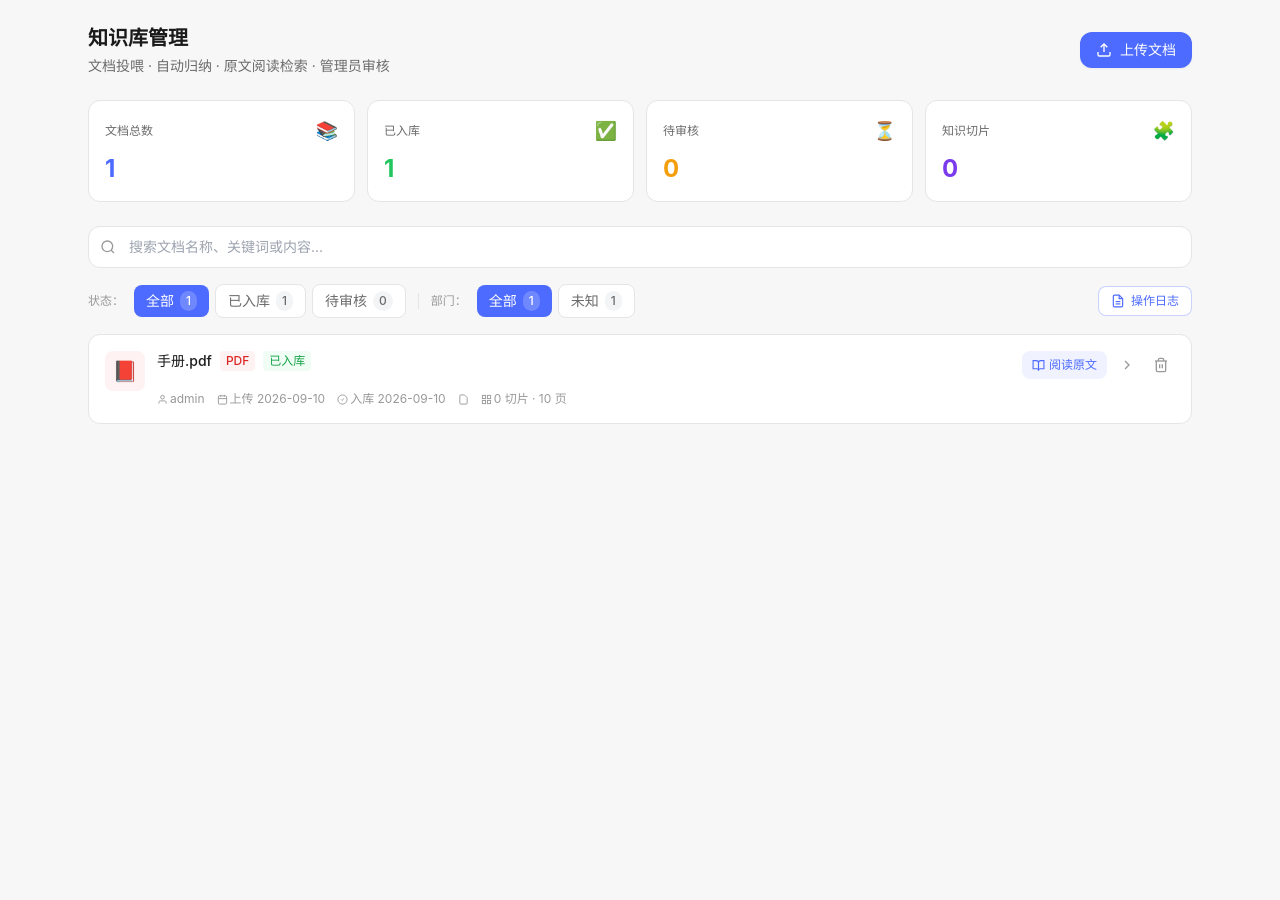
Test: KnowledgeBase › 普通文档（非 XML）不受该校验影响：仍会发起总结请求
What coordinates should you click on to do the following:
click the text "手册.pdf"
I would click on:
 (184, 361)
Its box is [157, 351, 212, 371].
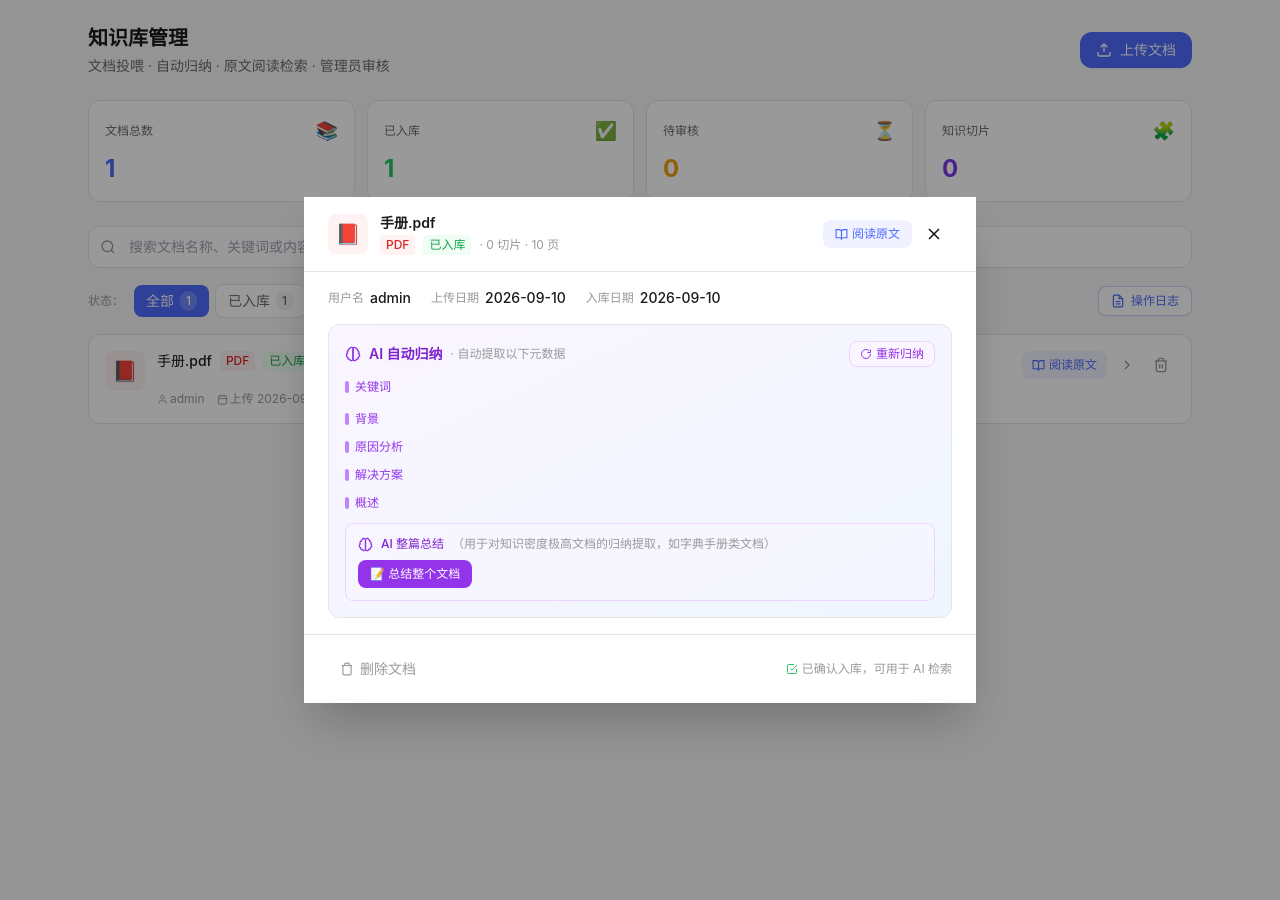
What coordinates should you click on to do the following:
click the button "📝 总结整个文档"
I would click on:
 (415, 574)
Its box is [358, 560, 472, 588].
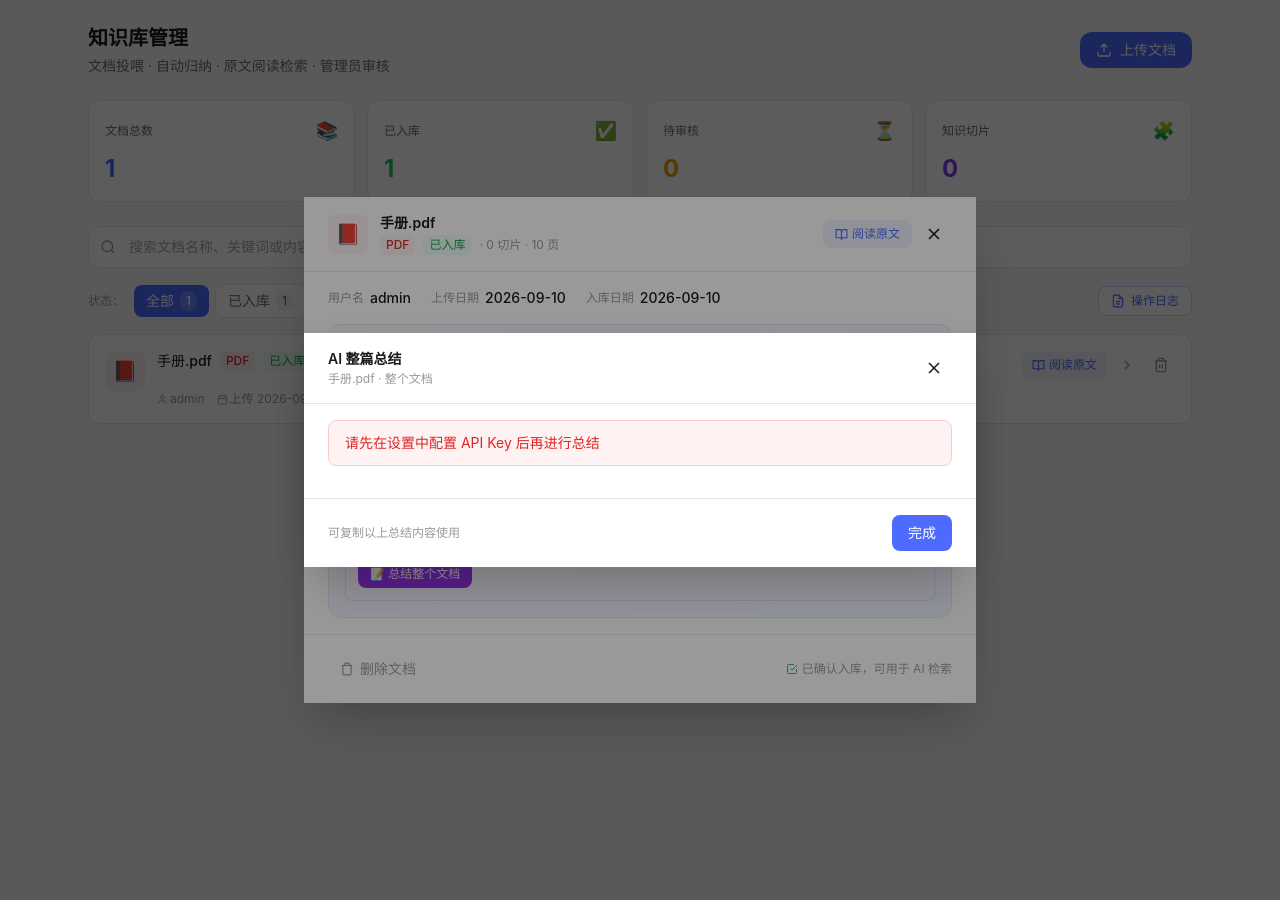
Now the text "请先在设置中配置 API Key 后再进行总结" is shown, box [328, 420, 952, 466]
